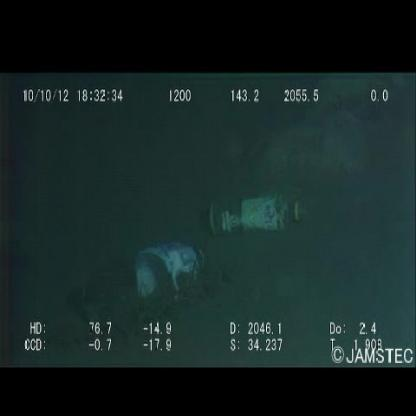Rác: (80, 232, 232, 305), (204, 194, 308, 244)
